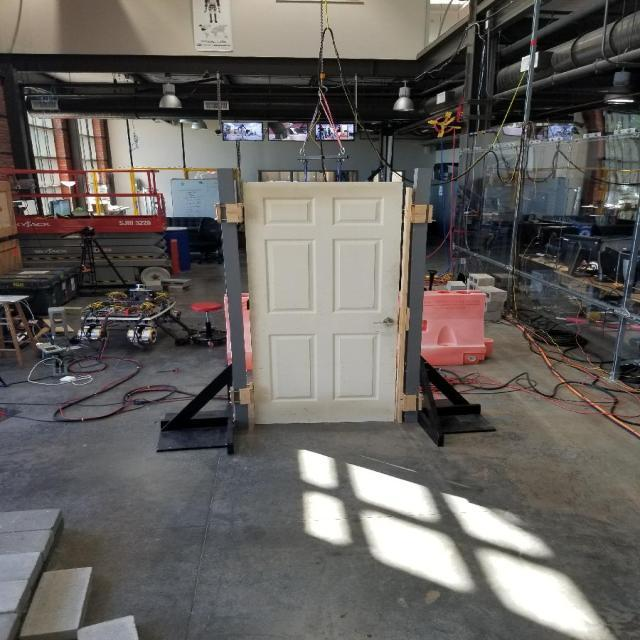door: (238, 180, 404, 428), (372, 315, 392, 328)
